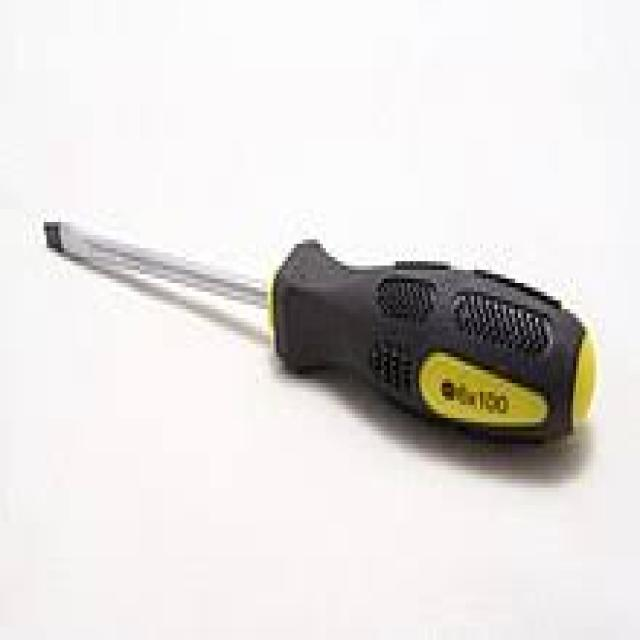screw driver: (31, 154, 615, 490)
